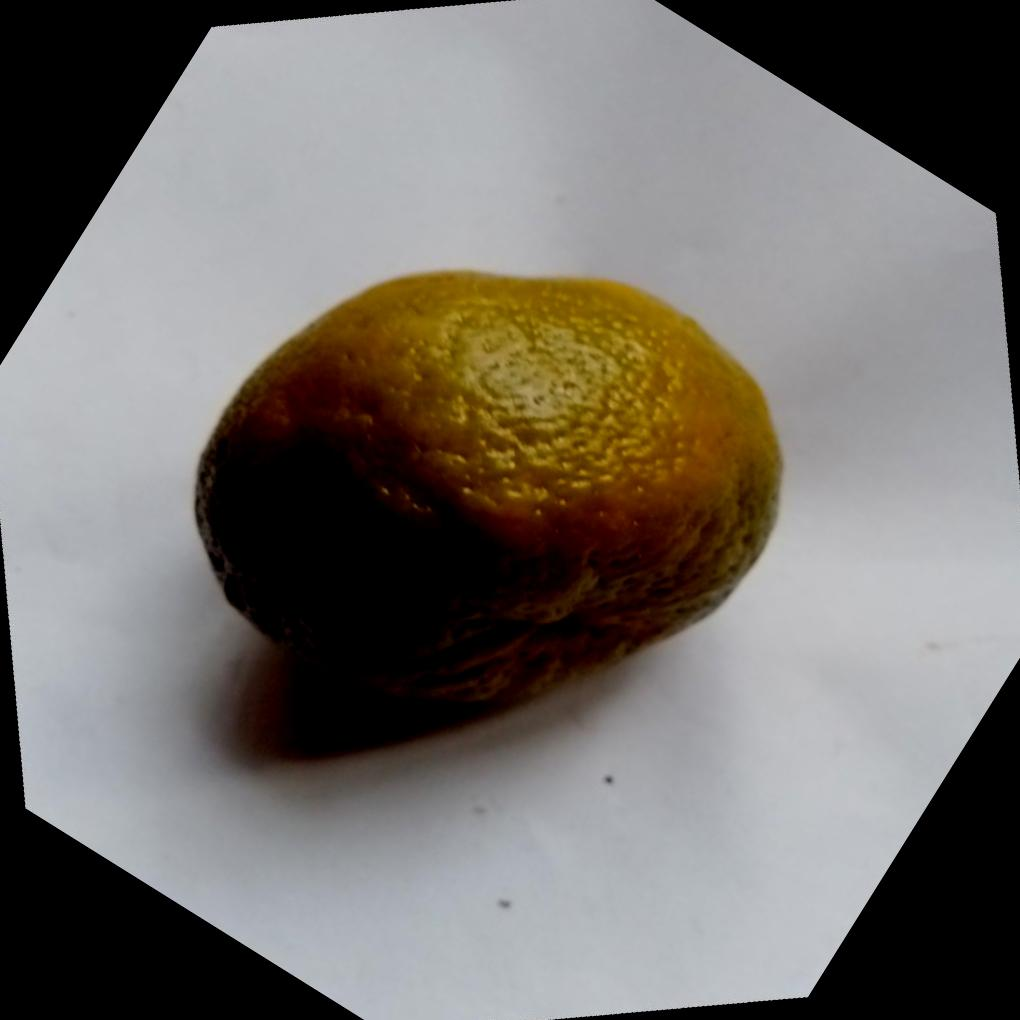FreshGuava: (193, 268, 786, 710)
